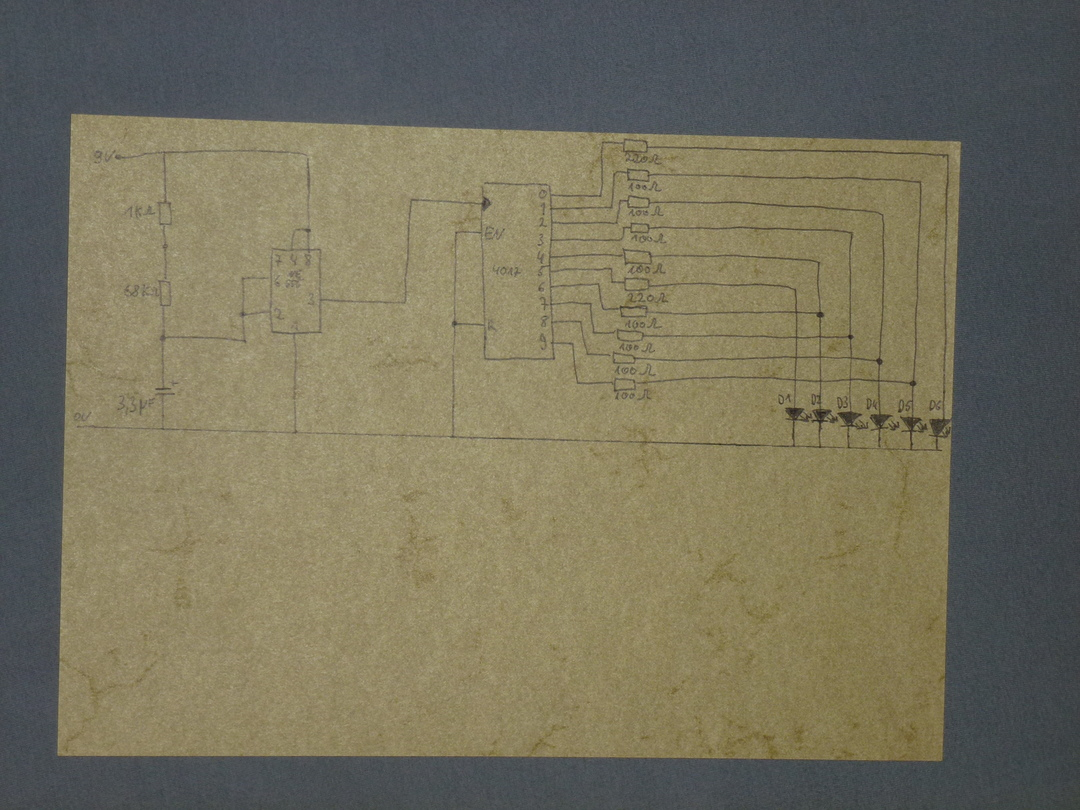capacitor.polarized: (154, 380, 180, 397)
crossover: (791, 307, 803, 318), (847, 353, 857, 364), (815, 353, 826, 363), (816, 332, 826, 342), (816, 376, 825, 387), (791, 375, 800, 385), (792, 333, 802, 342), (792, 353, 801, 362), (875, 377, 883, 387), (846, 376, 854, 385)
diode.light_emitting: (837, 410, 869, 431), (928, 418, 952, 440), (784, 405, 813, 423), (870, 413, 899, 431), (900, 416, 928, 433), (811, 408, 838, 425)
integrated_circuit: (479, 179, 559, 364)
integrated_cricuit.ne555: (268, 245, 326, 337)
junction: (813, 307, 827, 321), (237, 309, 250, 321), (845, 330, 857, 343), (874, 355, 886, 368), (302, 150, 313, 161), (157, 332, 168, 343), (450, 318, 461, 329), (907, 377, 918, 388), (933, 444, 944, 455), (159, 148, 170, 158), (790, 285, 800, 296), (875, 443, 886, 453), (843, 444, 855, 453), (303, 225, 313, 235), (847, 229, 857, 239), (291, 223, 300, 234), (158, 424, 167, 434), (877, 210, 887, 219), (906, 445, 916, 454), (790, 442, 800, 451), (291, 426, 299, 437), (240, 336, 249, 345), (916, 178, 925, 187), (814, 258, 823, 267), (816, 442, 825, 451), (239, 275, 247, 285), (408, 197, 416, 206), (943, 151, 952, 159), (401, 297, 408, 307), (452, 229, 460, 237), (611, 168, 619, 176), (574, 379, 582, 387), (569, 340, 577, 348), (577, 318, 584, 327), (450, 433, 458, 440), (600, 138, 607, 146), (597, 191, 604, 199), (618, 236, 625, 243), (587, 301, 594, 308), (584, 350, 591, 357), (591, 329, 598, 336), (608, 203, 614, 210), (613, 219, 619, 226), (608, 266, 614, 273), (609, 278, 615, 285), (595, 281, 601, 288), (600, 305, 606, 312), (618, 198, 623, 204), (621, 225, 626, 231)
resistor: (156, 276, 175, 309), (621, 247, 653, 265), (156, 198, 174, 228), (613, 327, 645, 343), (608, 350, 640, 366), (622, 276, 652, 292), (610, 376, 640, 392), (622, 137, 650, 154), (618, 304, 649, 319), (626, 193, 652, 209), (626, 167, 651, 183), (629, 221, 651, 234)
terminal: (114, 152, 124, 163), (73, 424, 83, 432)
text: (116, 394, 154, 416), (614, 363, 656, 378), (123, 283, 159, 300), (628, 291, 669, 304), (624, 152, 662, 166), (627, 262, 667, 275), (624, 317, 663, 330), (627, 180, 663, 194), (123, 204, 156, 219), (614, 389, 652, 402), (631, 232, 667, 245), (491, 264, 522, 279), (284, 269, 306, 290), (619, 342, 656, 354), (628, 206, 665, 218), (484, 225, 506, 241), (92, 149, 115, 164), (73, 410, 92, 423), (897, 399, 912, 413), (538, 333, 549, 351), (928, 398, 942, 412), (865, 397, 878, 412), (836, 394, 849, 409), (776, 393, 792, 405), (273, 306, 285, 321), (538, 296, 549, 311), (810, 393, 822, 406), (537, 264, 549, 277), (303, 253, 314, 267), (289, 252, 299, 267), (537, 280, 547, 294), (536, 251, 546, 265), (536, 233, 546, 247), (540, 314, 549, 329), (487, 319, 497, 332), (307, 292, 316, 306), (274, 253, 283, 267), (290, 319, 300, 331), (538, 188, 548, 200), (273, 274, 281, 288), (539, 217, 548, 229), (540, 202, 548, 215)
